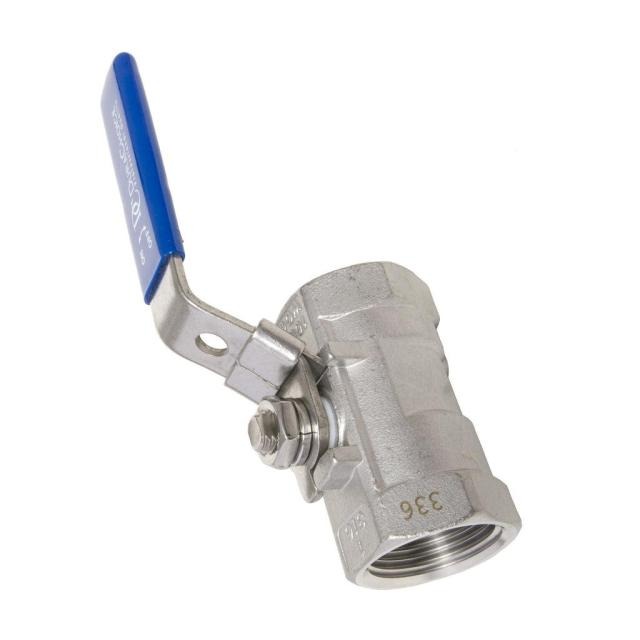opened_valve: (95, 46, 525, 594)
